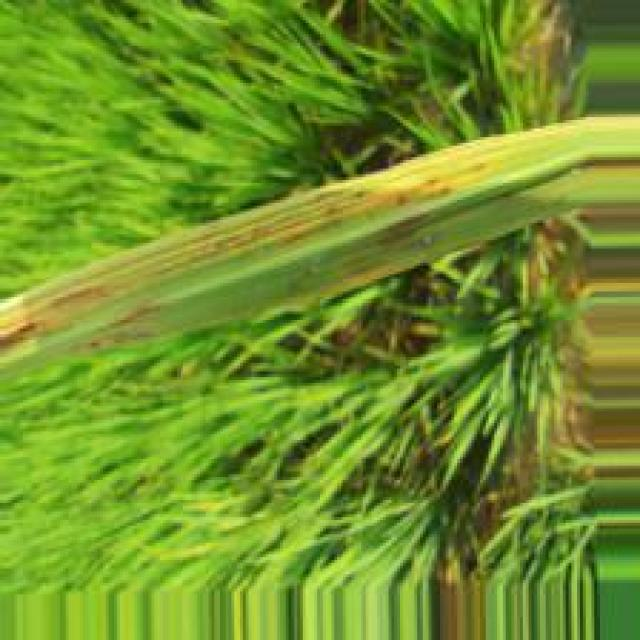Narrow_Brown_Leaf_Spot: (0, 111, 624, 367), (285, 254, 429, 305), (376, 214, 426, 241)
